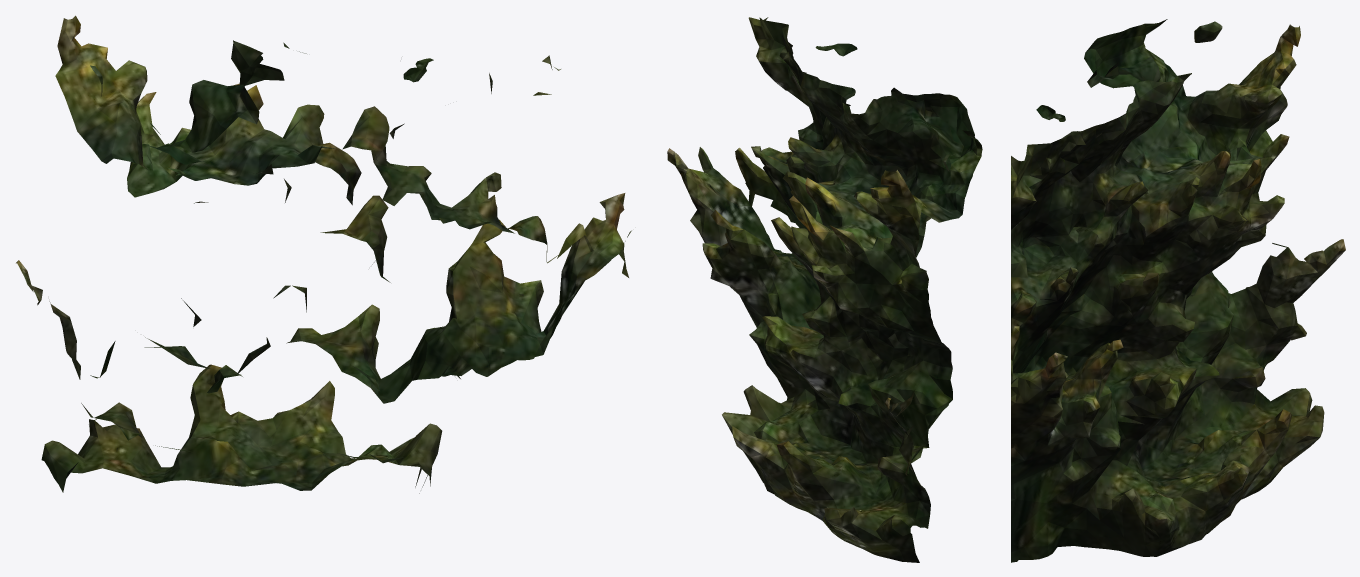
3 renders of one model, left to right at view 1: azimuth 30°, elevation 25°; view 2: azimuth 150°, elevation 25°; view 3: azimuth 270°, elevation 25°, orthographic. The views are drawn at different scales.
Size of the model in its own units: 3.16 by 3.35 by 2.39.
Materials: 4 (4 with a texture image).
